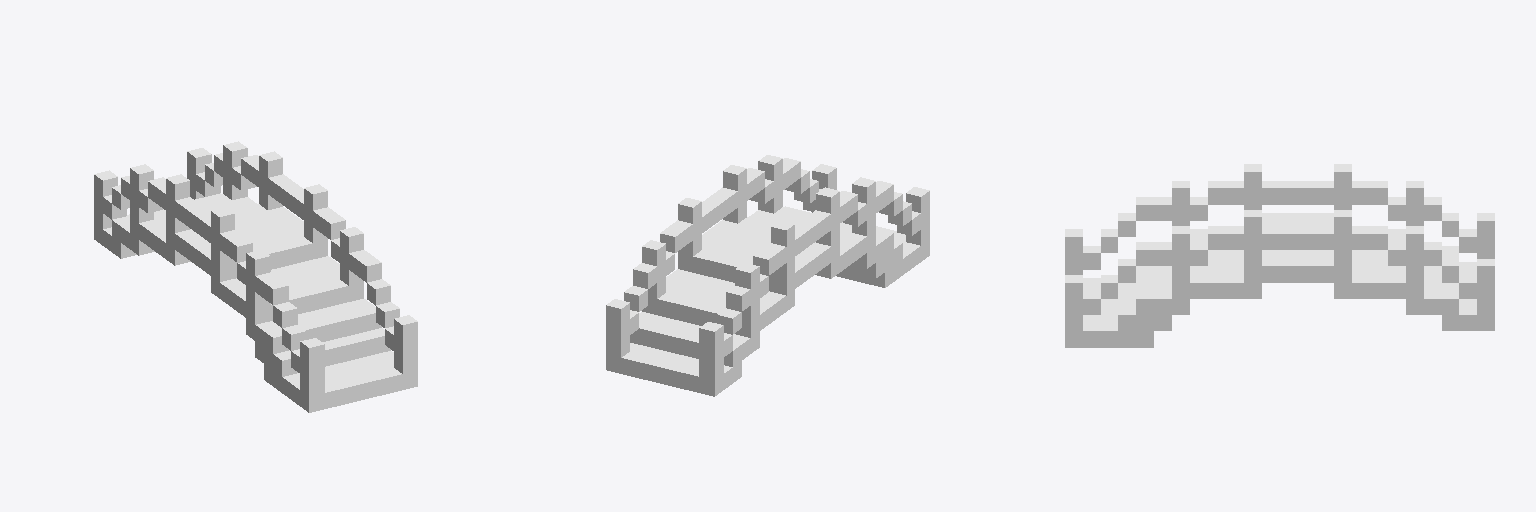
File: bridge.obj
3 views of the same model, side by side, from view 1: azimuth 30°, elevation 25°; view 2: azimuth 150°, elevation 25°; view 3: azimuth 270°, elevation 25° (orthographic).
Size of the model in its own units: 7 by 8 by 24.